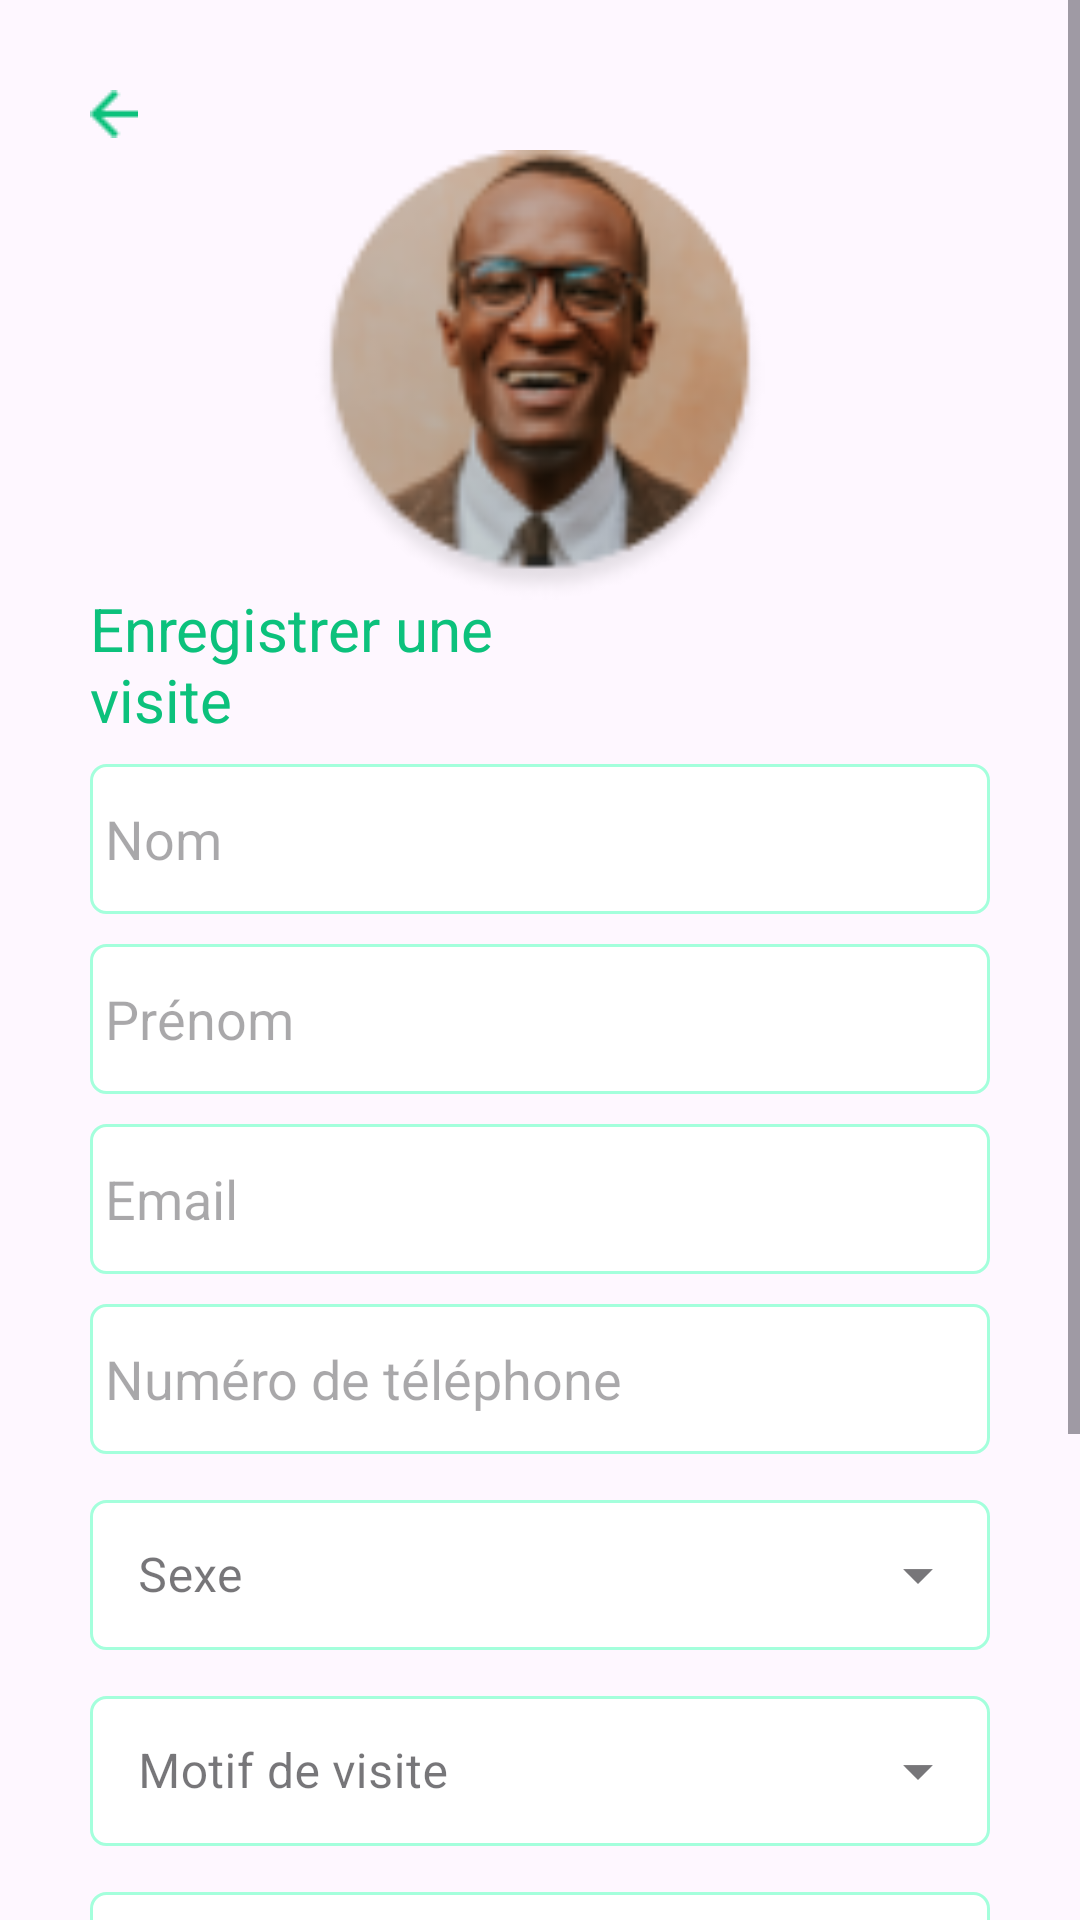

Point at icon controls on the screen. Image size 1080x1920, points as (x,y).
arrow: (114,114)
